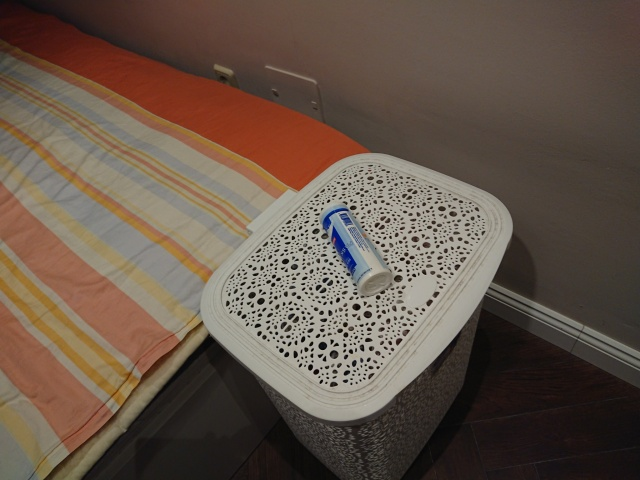Solana Pag Fine Sea Salt 250g: (317, 199, 395, 299)
